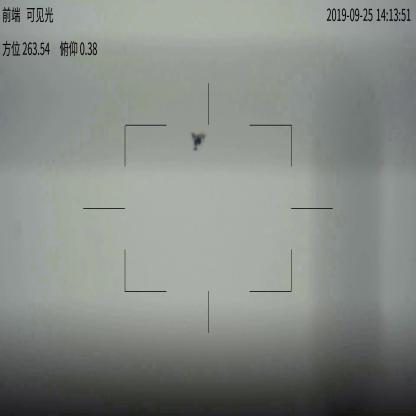uav: (188, 128, 206, 154)
